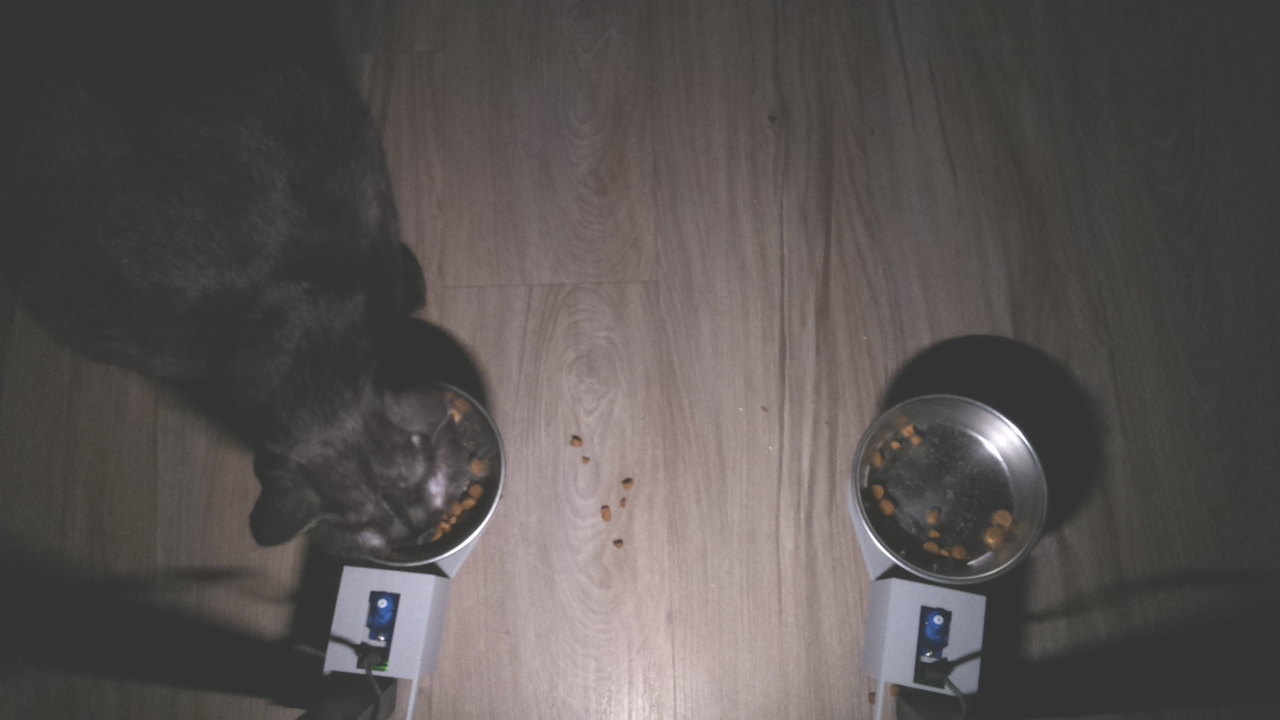open_bowl: (851, 389, 1055, 587)
saki_eating: (237, 315, 507, 573)
